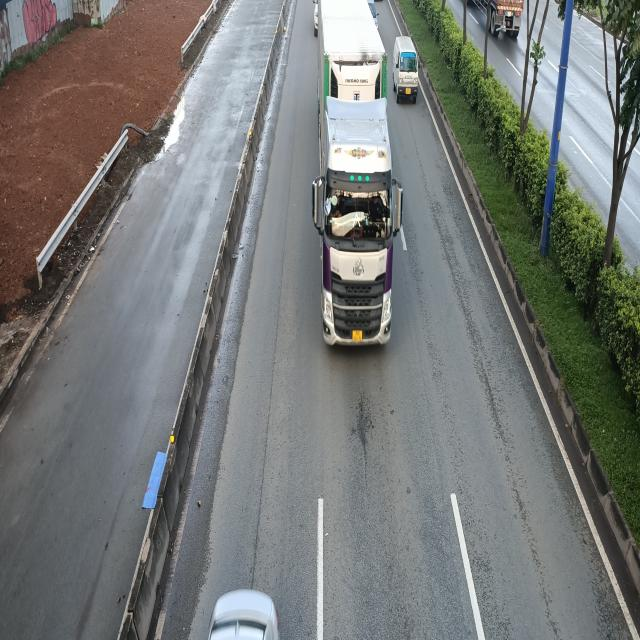container: (309, 0, 399, 349)
van: (392, 37, 418, 106)
